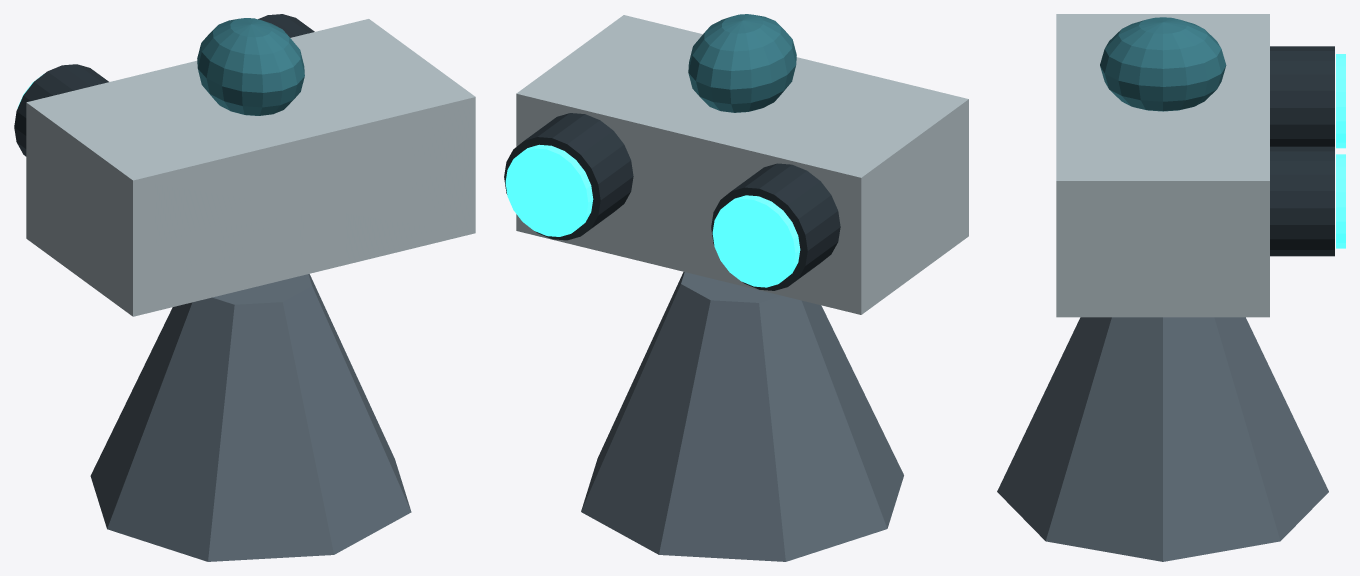
The model's file is fire-control.glb.
The picture shows the model from 3 angles, left to right: view 1: azimuth 30°, elevation 25°; view 2: azimuth 150°, elevation 25°; view 3: azimuth 270°, elevation 25°; orthographic projection.
Visible parts, largest first — view 1: rangefinder head, fire control tripod, tracking camera, rangefinder optic, rangefinder optic.001; view 2: rangefinder head, fire control tripod, tracking camera, rangefinder lens, rangefinder lens.001, rangefinder optic, rangefinder optic.001; view 3: fire control tripod, rangefinder head, tracking camera, rangefinder optic.001, rangefinder optic, rangefinder lens, rangefinder lens.001.
Part boxes in pixels (box(x1,y1,x2,y2)): rangefinder head: box(26, 19, 475, 316); fire control tripod: box(90, 274, 411, 561); tracking camera: box(197, 18, 304, 115); rangefinder optic: box(14, 64, 108, 156); rangefinder optic.001: box(258, 14, 314, 37); rangefinder head: box(516, 15, 968, 314); fire control tripod: box(581, 272, 903, 561); tracking camera: box(688, 14, 796, 112); rangefinder lens: box(712, 195, 800, 287); rangefinder lens.001: box(505, 144, 593, 236); rangefinder optic: box(711, 163, 840, 290); rangefinder optic.001: box(504, 113, 633, 240); fire control tripod: box(997, 317, 1328, 561); rangefinder head: box(1056, 14, 1269, 317); tracking camera: box(1100, 17, 1226, 111); rangefinder optic.001: box(1270, 146, 1334, 256); rangefinder optic: box(1270, 46, 1334, 146); rangefinder lens: box(1336, 54, 1345, 148); rangefinder lens.001: box(1336, 154, 1345, 248).
Bounding box in the file's own units: 1 × 1.31 × 0.8825.
